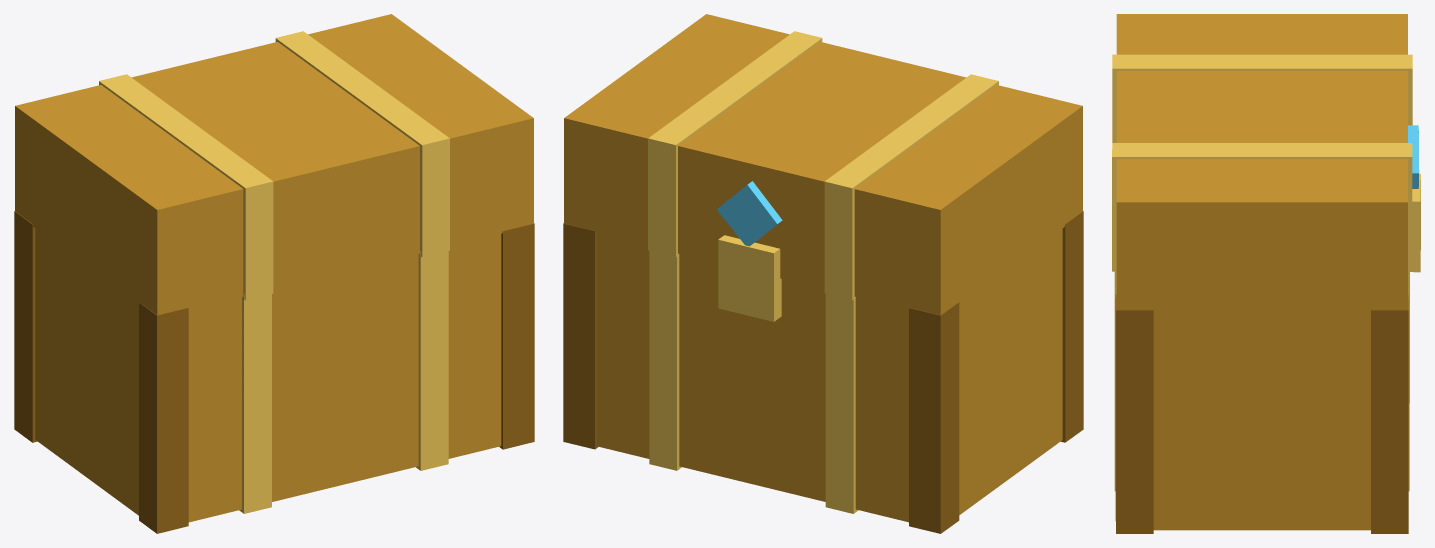
The model's file is gift_chest.obj.
3 renders of one model, left to right at view 1: azimuth 30°, elevation 25°; view 2: azimuth 150°, elevation 25°; view 3: azimuth 270°, elevation 25°, orthographic. The views are drawn at different scales.
Parts seen in each view (by area): view 1: gift_chest; view 2: gift_chest; view 3: gift_chest.
Boxes of the visible parts, x1,y1,x2,y2 form: gift_chest: (14, 14, 534, 533); gift_chest: (563, 14, 1083, 533); gift_chest: (1112, 14, 1420, 533).
Bounding box in the file's own units: 5.18 × 4.28 × 3.58.
